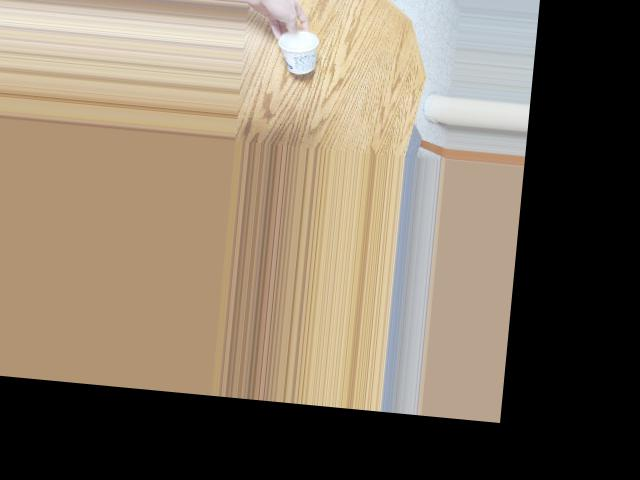cotage: (274, 26, 323, 73)
